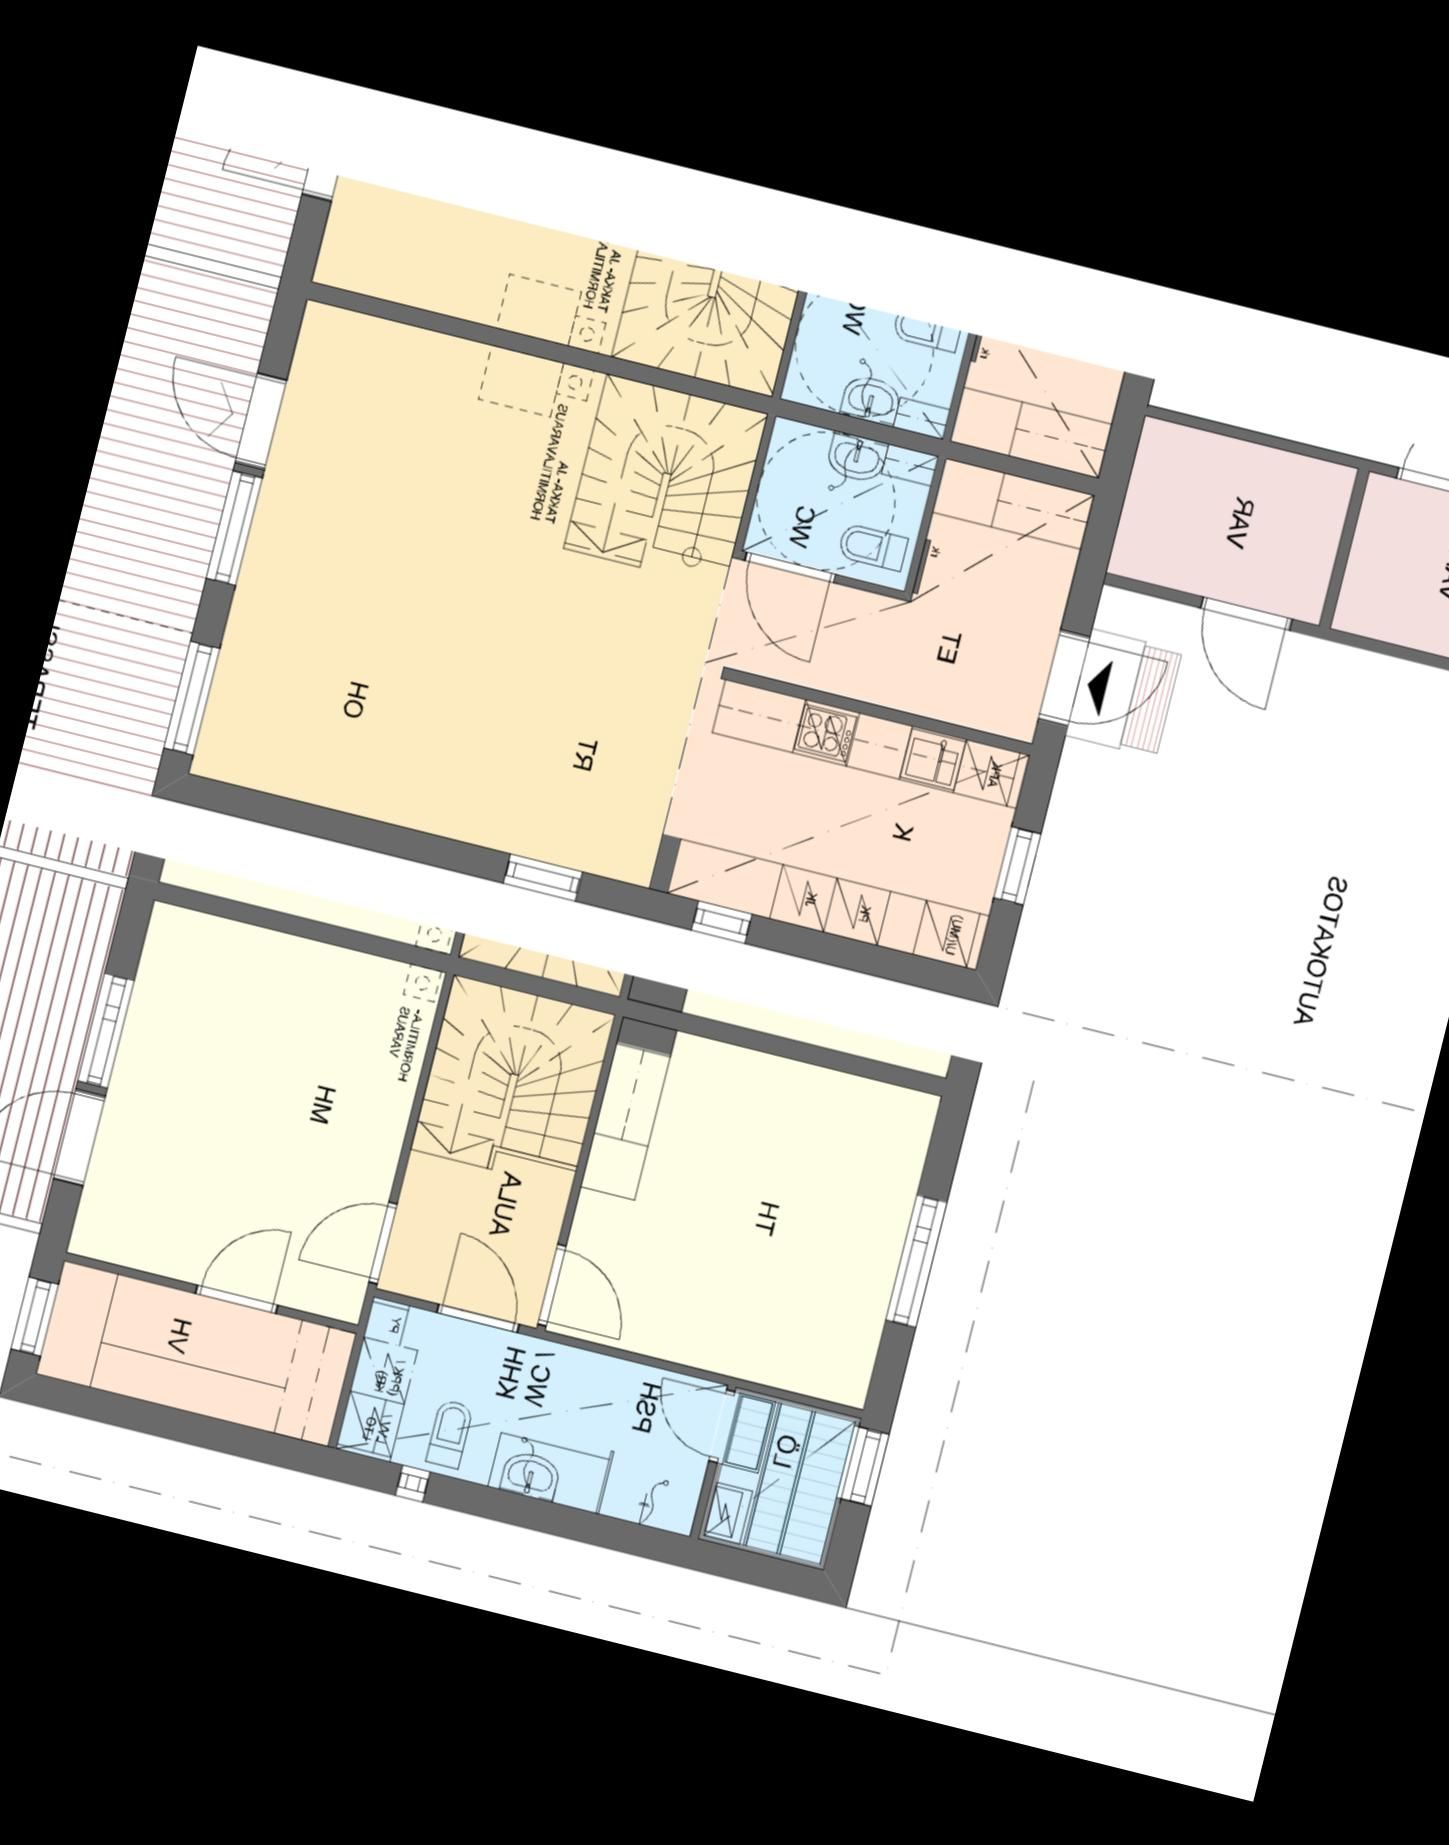door: (1024, 620, 1172, 755), (139, 338, 287, 472), (1166, 587, 1296, 720), (717, 541, 844, 672), (0, 1060, 105, 1194), (189, 1210, 304, 1327), (428, 1221, 540, 1339), (524, 1238, 641, 1351), (287, 1174, 397, 1289), (635, 1366, 750, 1474)
window: (874, 1174, 964, 1349), (63, 943, 148, 1104), (189, 455, 269, 601), (148, 627, 226, 771), (982, 806, 1057, 927), (0, 1253, 69, 1370), (828, 1409, 897, 1520), (483, 842, 594, 909), (678, 885, 762, 951), (374, 1454, 445, 1513)
